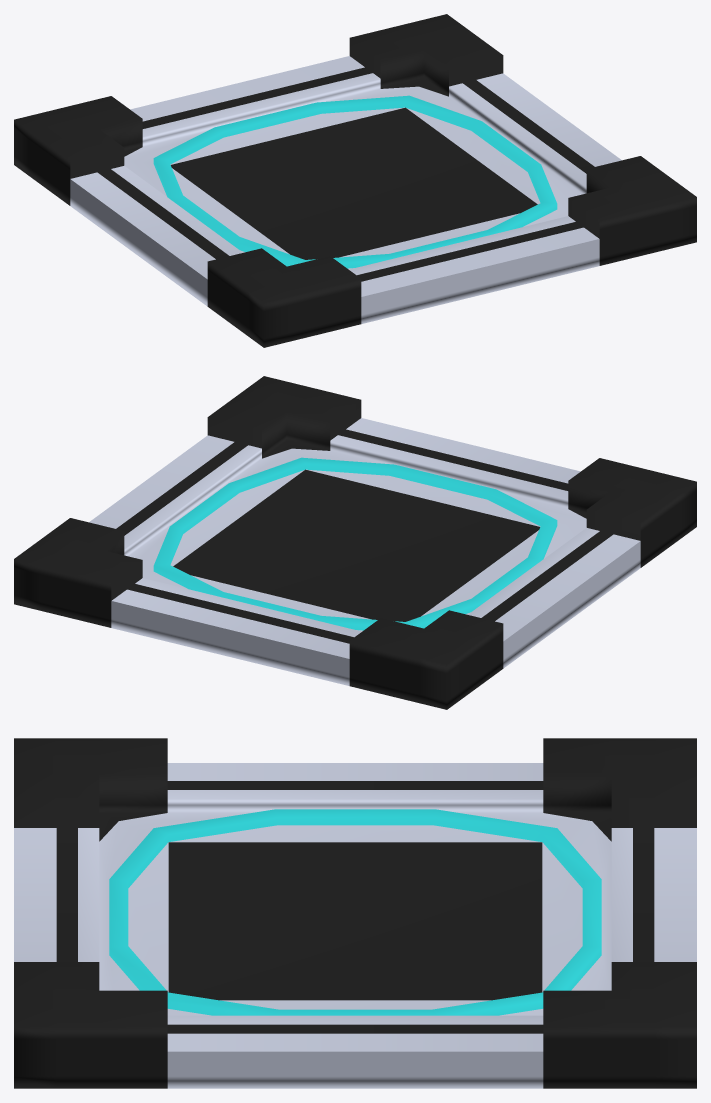
File: ShippingPoint.fbx
The picture shows the model from 3 angles, top to bottom: view 1: azimuth 30°, elevation 25°; view 2: azimuth 150°, elevation 25°; view 3: azimuth 270°, elevation 25°; orthographic projection. The views are drawn at different scales.
Visible parts, largest first — view 1: ShippingPoint; view 2: ShippingPoint; view 3: ShippingPoint.
Boxes of the visible parts, x1,y1,x2,y2 form: ShippingPoint: (14, 14, 696, 347); ShippingPoint: (14, 376, 696, 709); ShippingPoint: (14, 738, 696, 1088).
Size of the model in its own units: 400 by 40 by 400.
